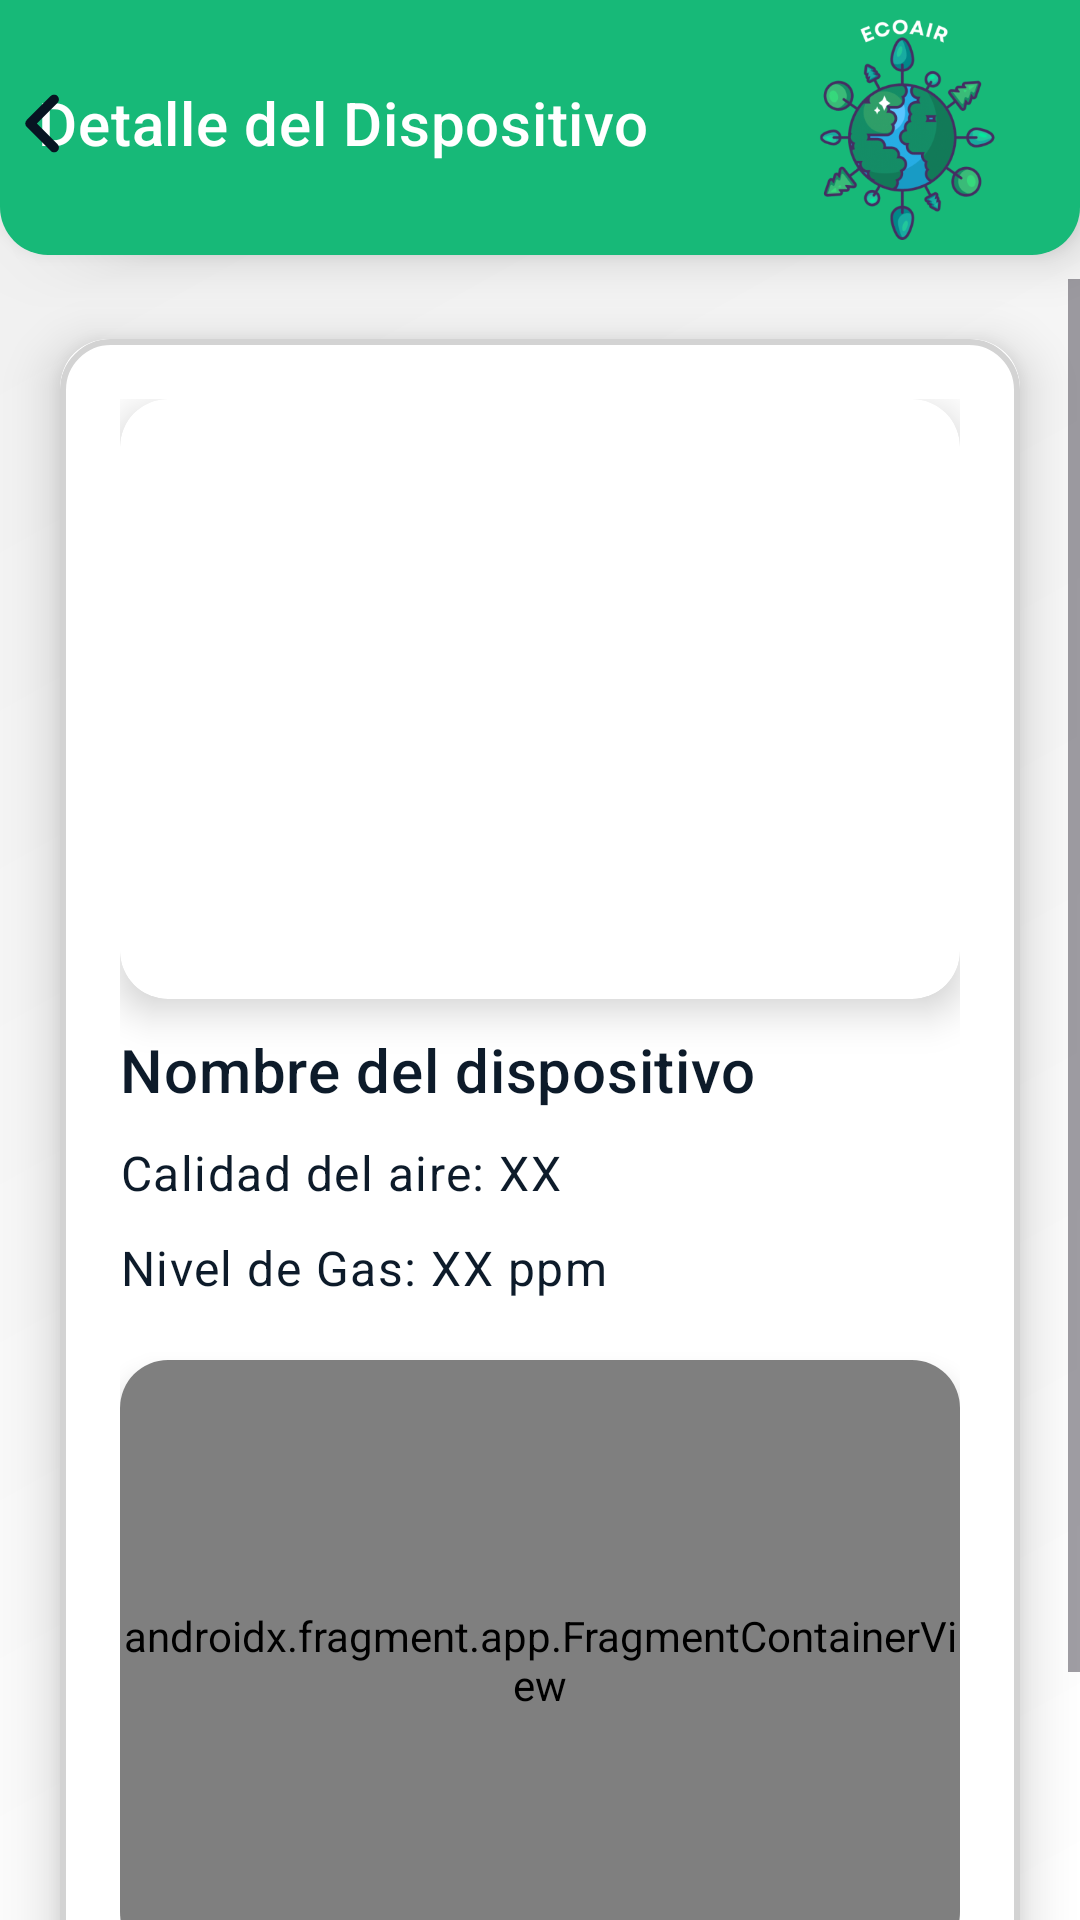

Icons on this 1080 x 1920 Android screen, each with the point to tap as (x=x, y=y):
back: (x=50, y=123)
